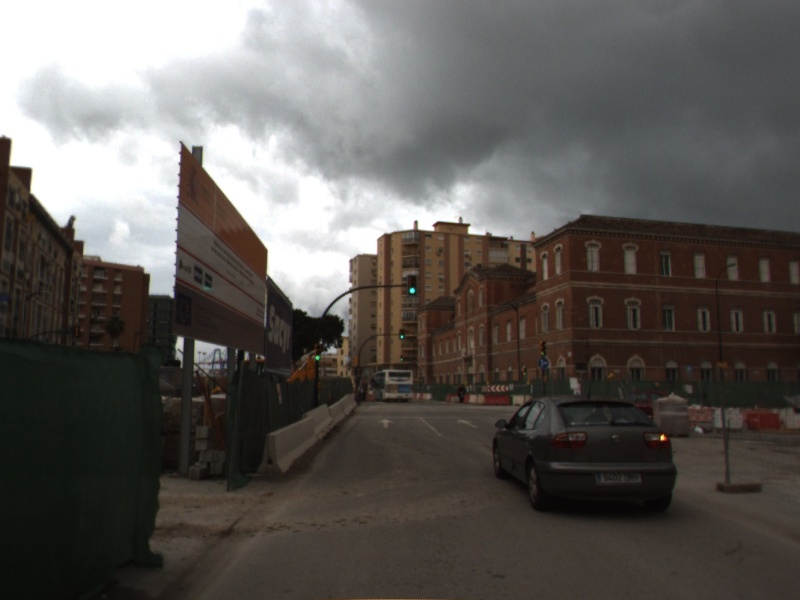STRAIGHT: (455, 417, 481, 431), (375, 416, 397, 430)
